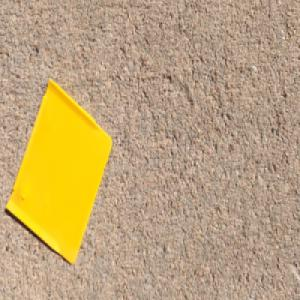PlasticPart: (4, 76, 113, 265)
